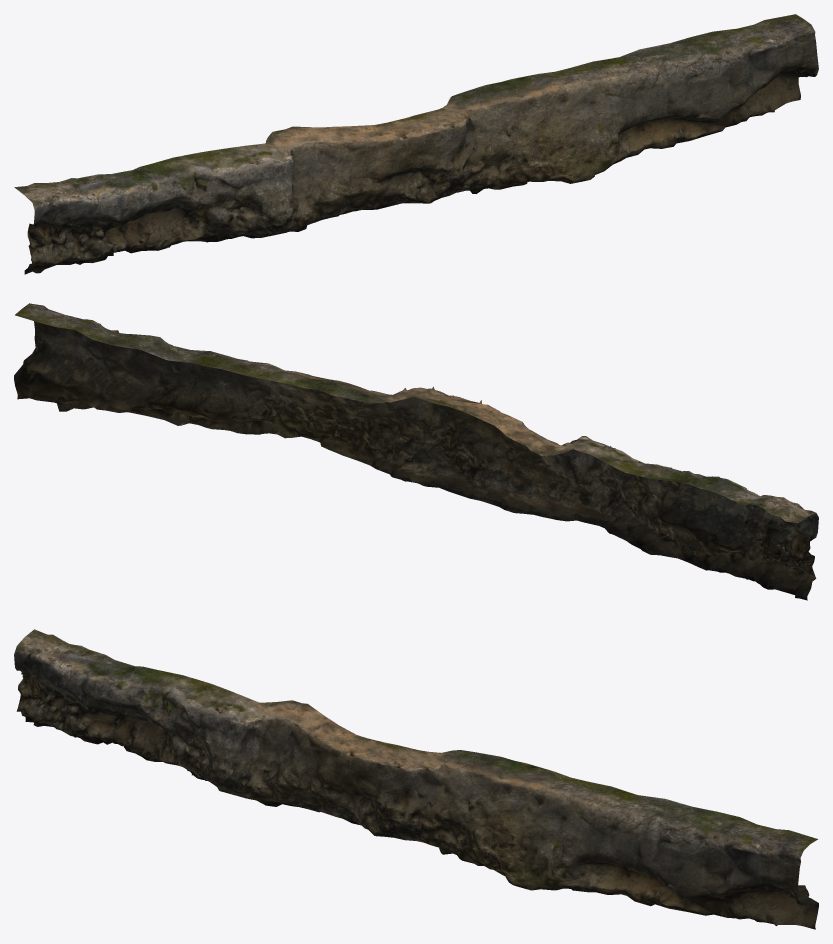
The model's file is cliff-coast.glb.
3 renders of one model, top to bottom at view 1: azimuth 30°, elevation 25°; view 2: azimuth 150°, elevation 25°; view 3: azimuth 330°, elevation 25°, orthographic. The views are drawn at different scales.
Visible parts, largest first — view 1: coastal_cliff_01; view 2: coastal_cliff_01; view 3: coastal_cliff_01.
Boxes of the visible parts, x1=… form: coastal_cliff_01: x1=14, y1=14, x2=818, y2=274; coastal_cliff_01: x1=14, y1=303, x2=818, y2=600; coastal_cliff_01: x1=14, y1=629, x2=818, y2=929.
Bounding box in the file's own units: 91.94 × 10.26 × 10.97.
1 material, 1 textured.
